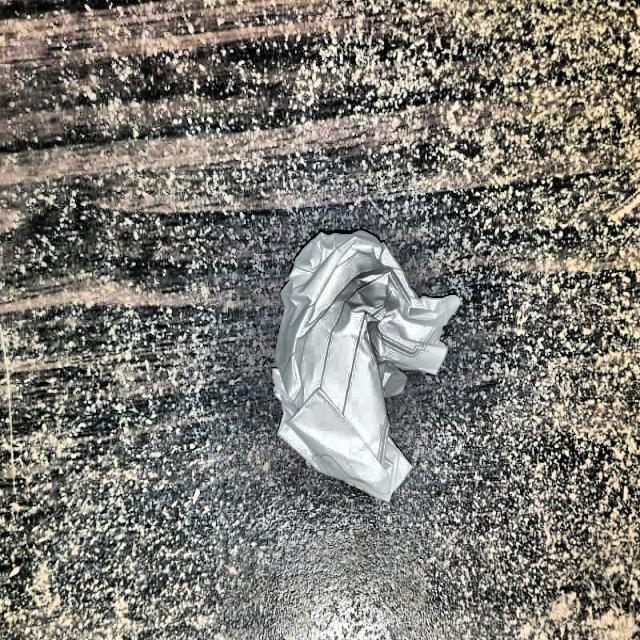paper: (273, 222, 462, 505)
